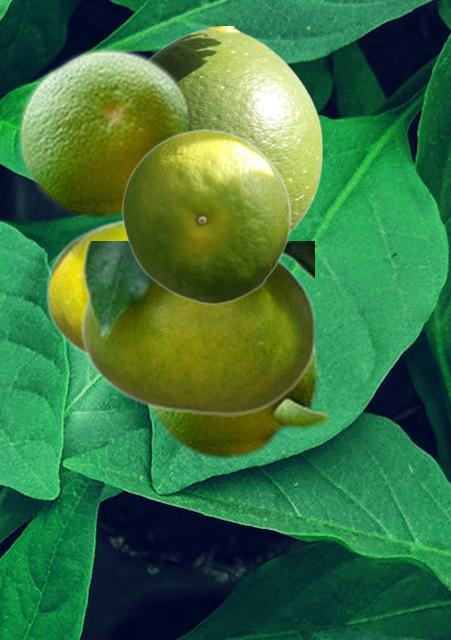dalandan: (81, 241, 313, 415), (151, 26, 322, 232), (16, 45, 194, 218), (121, 128, 290, 304), (146, 332, 331, 459), (45, 219, 125, 356)
